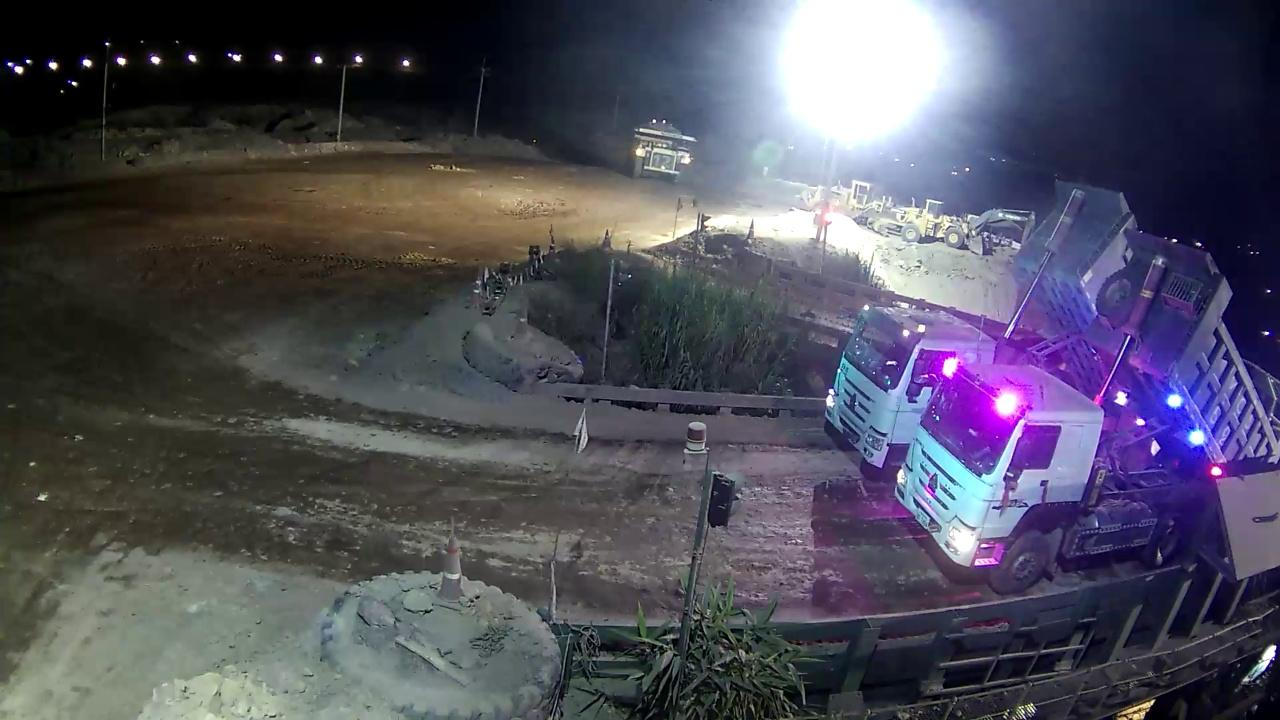front_number: (649, 149, 676, 174)
mining_truck: (627, 114, 698, 190)
